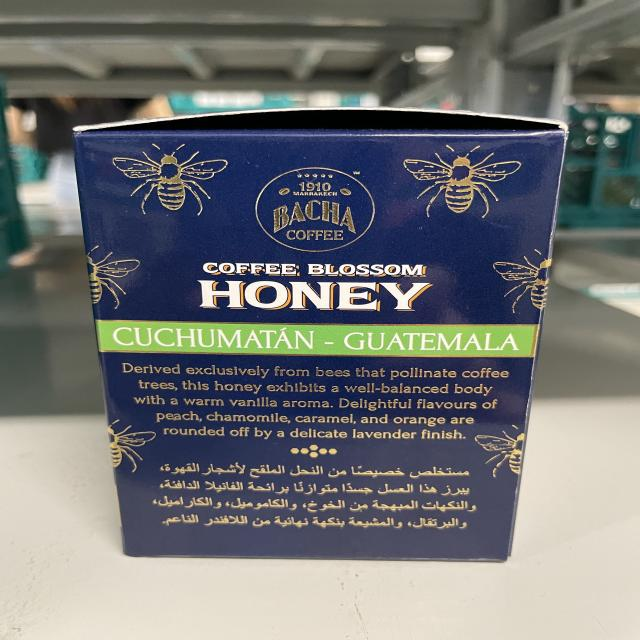object_name: (76, 118, 558, 560)
